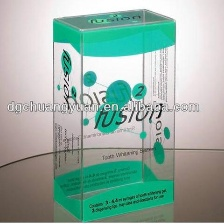plastic_box: (42, 2, 182, 224)
